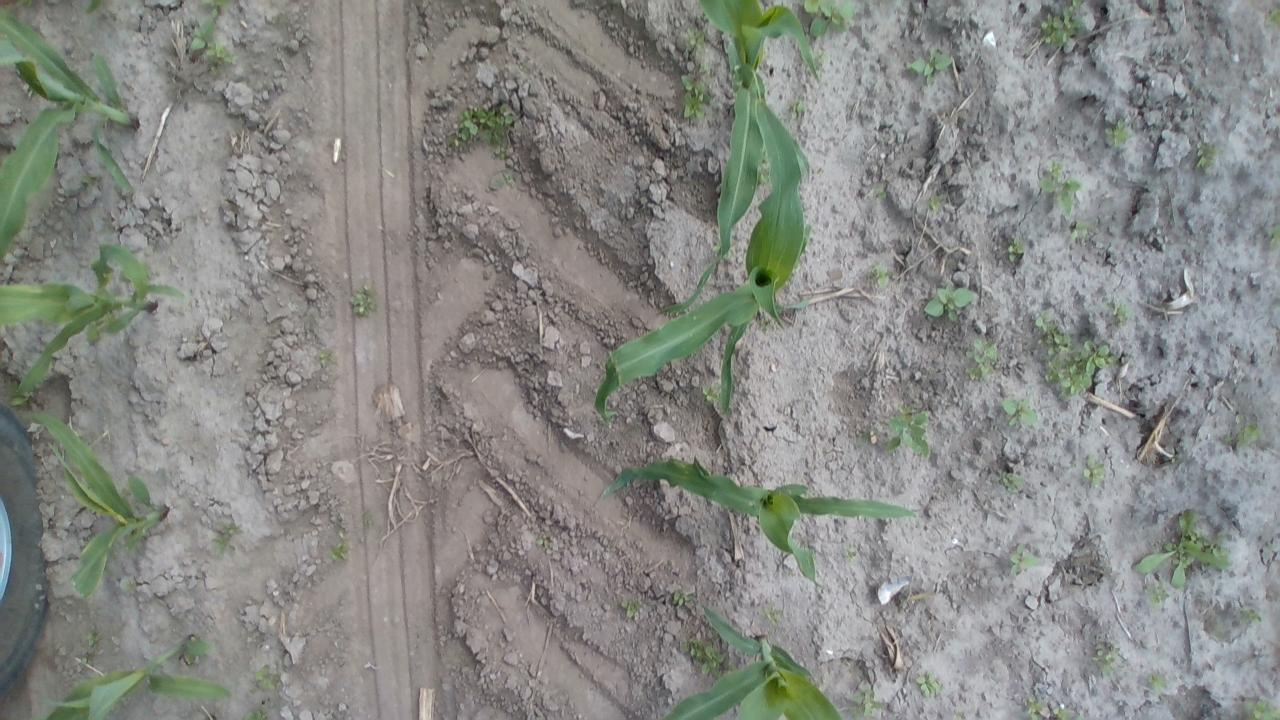Maize: (594, 98, 812, 422), (649, 0, 820, 315), (594, 454, 916, 592), (0, 8, 142, 262), (1, 243, 188, 413), (28, 399, 171, 603), (657, 603, 844, 720), (37, 636, 233, 720), (86, 0, 103, 17)
Weeds: (1132, 506, 1228, 585), (1044, 334, 1110, 397), (1039, 159, 1081, 216), (885, 411, 930, 460), (1040, 0, 1084, 46), (802, 0, 856, 36), (452, 107, 506, 143), (683, 65, 715, 120), (922, 286, 972, 320), (680, 638, 723, 677), (1031, 312, 1071, 353), (965, 336, 998, 384), (1220, 412, 1258, 450), (1094, 640, 1128, 676), (846, 688, 882, 718), (904, 55, 949, 78), (1001, 400, 1037, 426), (1010, 544, 1038, 577), (214, 522, 240, 554), (1194, 139, 1220, 170), (205, 40, 236, 66), (191, 21, 217, 51), (1108, 116, 1131, 146), (1246, 700, 1278, 720), (1084, 461, 1110, 484), (352, 288, 372, 316), (916, 670, 938, 694), (201, 0, 231, 17), (257, 664, 278, 688), (875, 260, 891, 288), (1070, 219, 1090, 240), (766, 608, 790, 625), (1114, 297, 1128, 325), (1147, 585, 1168, 603), (1240, 606, 1262, 622), (688, 30, 706, 49), (329, 544, 350, 560), (1007, 236, 1021, 260), (1265, 7, 1280, 29), (82, 174, 102, 190), (622, 600, 642, 616), (1150, 672, 1168, 689), (1026, 696, 1044, 712), (791, 100, 807, 118), (87, 629, 102, 648), (842, 541, 858, 558), (246, 708, 267, 720), (672, 591, 688, 606), (1269, 225, 1280, 246), (702, 386, 718, 400), (928, 195, 942, 210), (1052, 708, 1068, 720), (1004, 471, 1016, 482), (209, 66, 217, 73)
